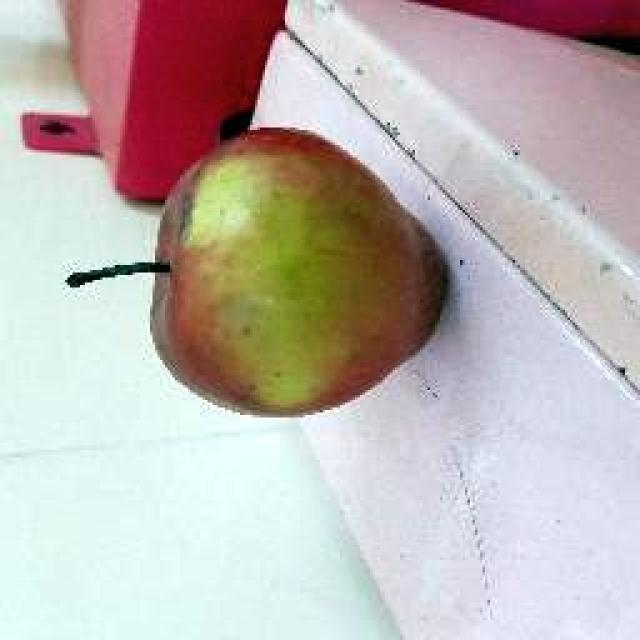Good_Apple: (150, 128, 450, 420)
